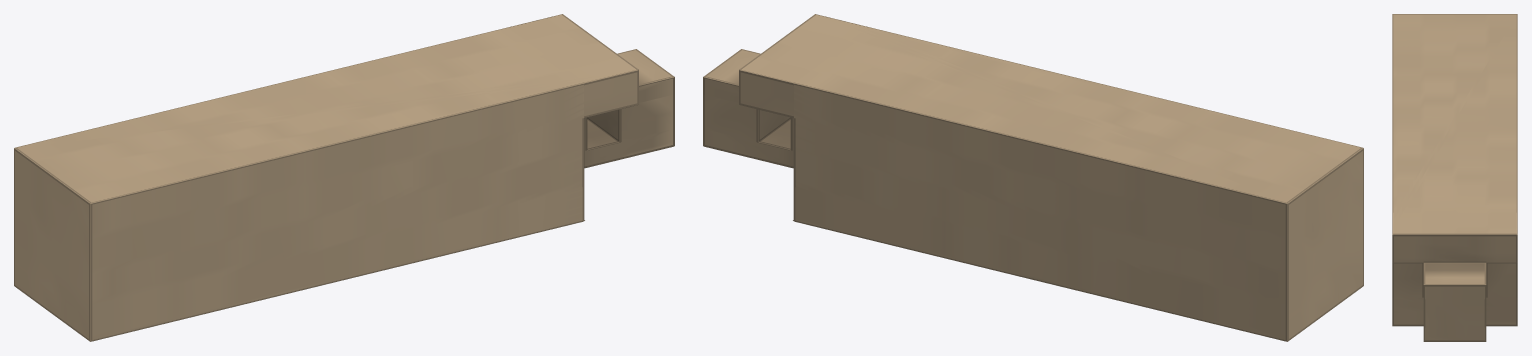
3 views of the same model, side by side, from view 1: azimuth 30°, elevation 25°; view 2: azimuth 150°, elevation 25°; view 3: azimuth 270°, elevation 25° (orthographic). The views are drawn at different scales.
Visible parts, largest first — view 1: part-a; view 2: part-a; view 3: part-a.
Boxes of the visible parts, left/top/right/bottom form: part-a: left=14, top=14, right=674, bottom=341; part-a: left=703, top=14, right=1363, bottom=341; part-a: left=1392, top=14, right=1517, bottom=341.
Size of the model in its own units: 0.5508 by 0.1208 by 0.1208.
